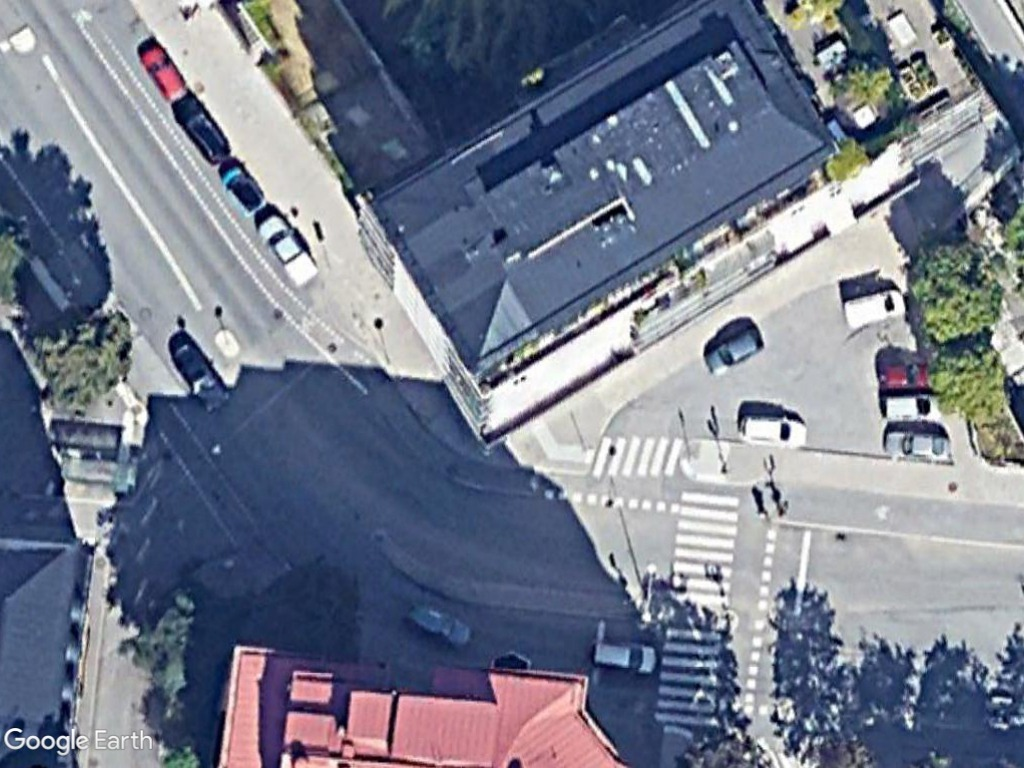car: (164, 333, 238, 416), (164, 90, 235, 163), (207, 153, 272, 229), (398, 597, 479, 654), (133, 37, 190, 108), (580, 631, 664, 679), (702, 322, 770, 378), (877, 421, 958, 468), (735, 408, 816, 454), (877, 391, 946, 426)
other: (252, 207, 324, 290)
van: (837, 285, 912, 338)
